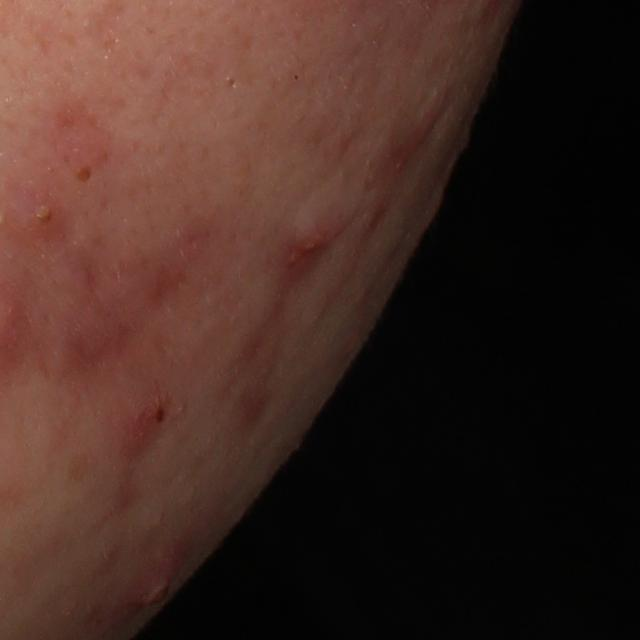comedo: (70, 162, 99, 188)
papule: (117, 394, 170, 459)
pustule: (126, 549, 177, 620)
